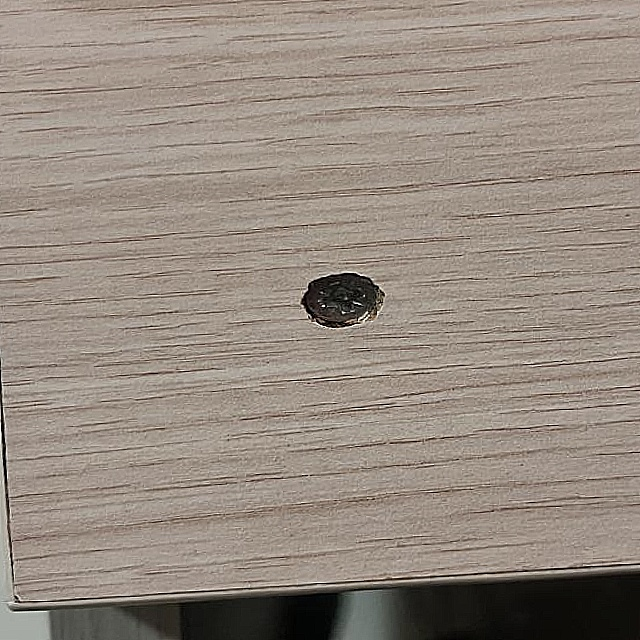pozidriv: (302, 272, 379, 323)
